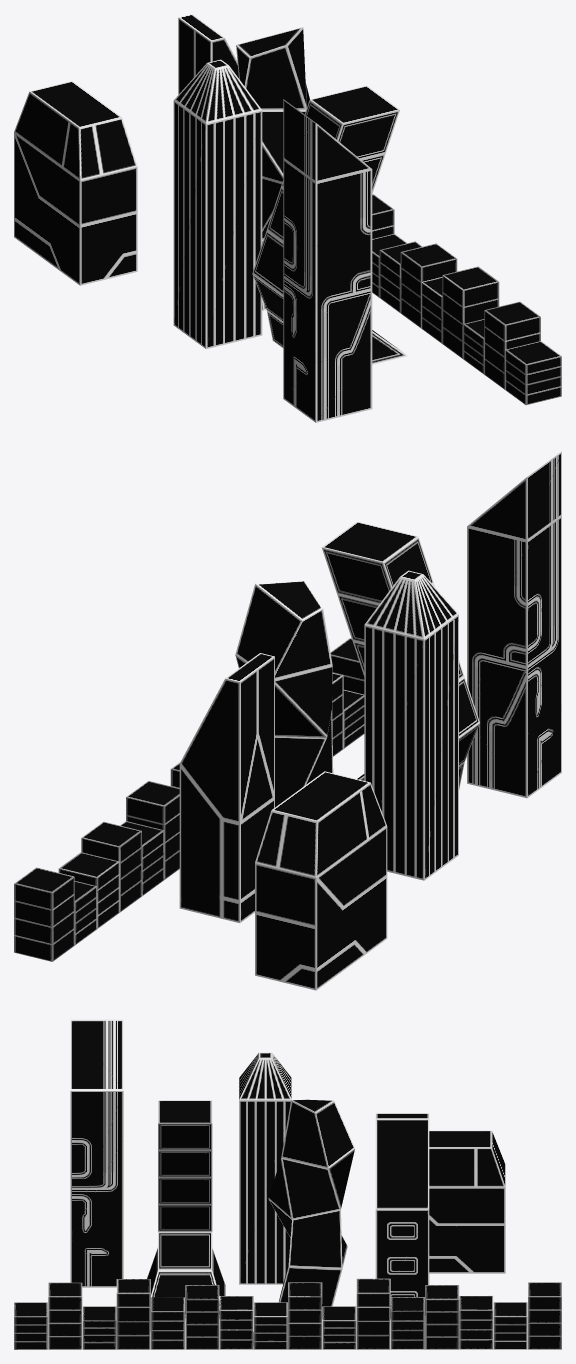
File: Unique_cityscape 1.fbx
3 views of the same model, one above another, from view 1: azimuth 30°, elevation 25°; view 2: azimuth 150°, elevation 25°; view 3: azimuth 270°, elevation 25° (orthographic). The views are drawn at different scales.
Parts seen in each view (by area): view 1: polySurface54; view 2: polySurface54; view 3: polySurface54.
Boxes of the visible parts, box(x1,y1,x2,y2) form: polySurface54: box(14, 14, 561, 422); polySurface54: box(14, 451, 561, 990); polySurface54: box(14, 1019, 561, 1349).
Bounding box in the file's own units: 110 × 127 × 256.
2 materials, 2 textured.
